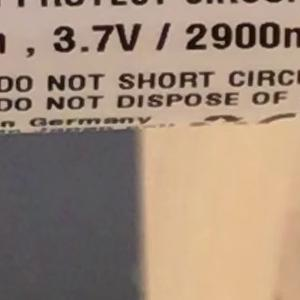keyword: (43, 13, 150, 63)
